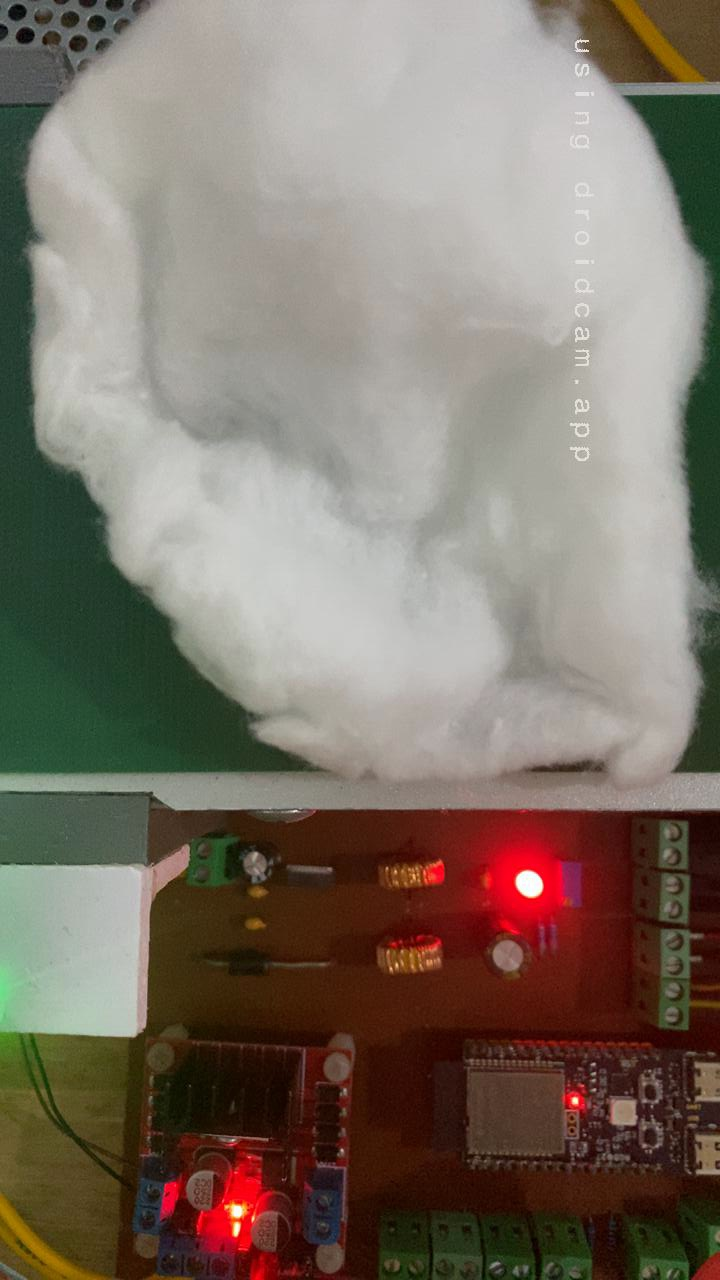cotton: (0, 0, 720, 770)
